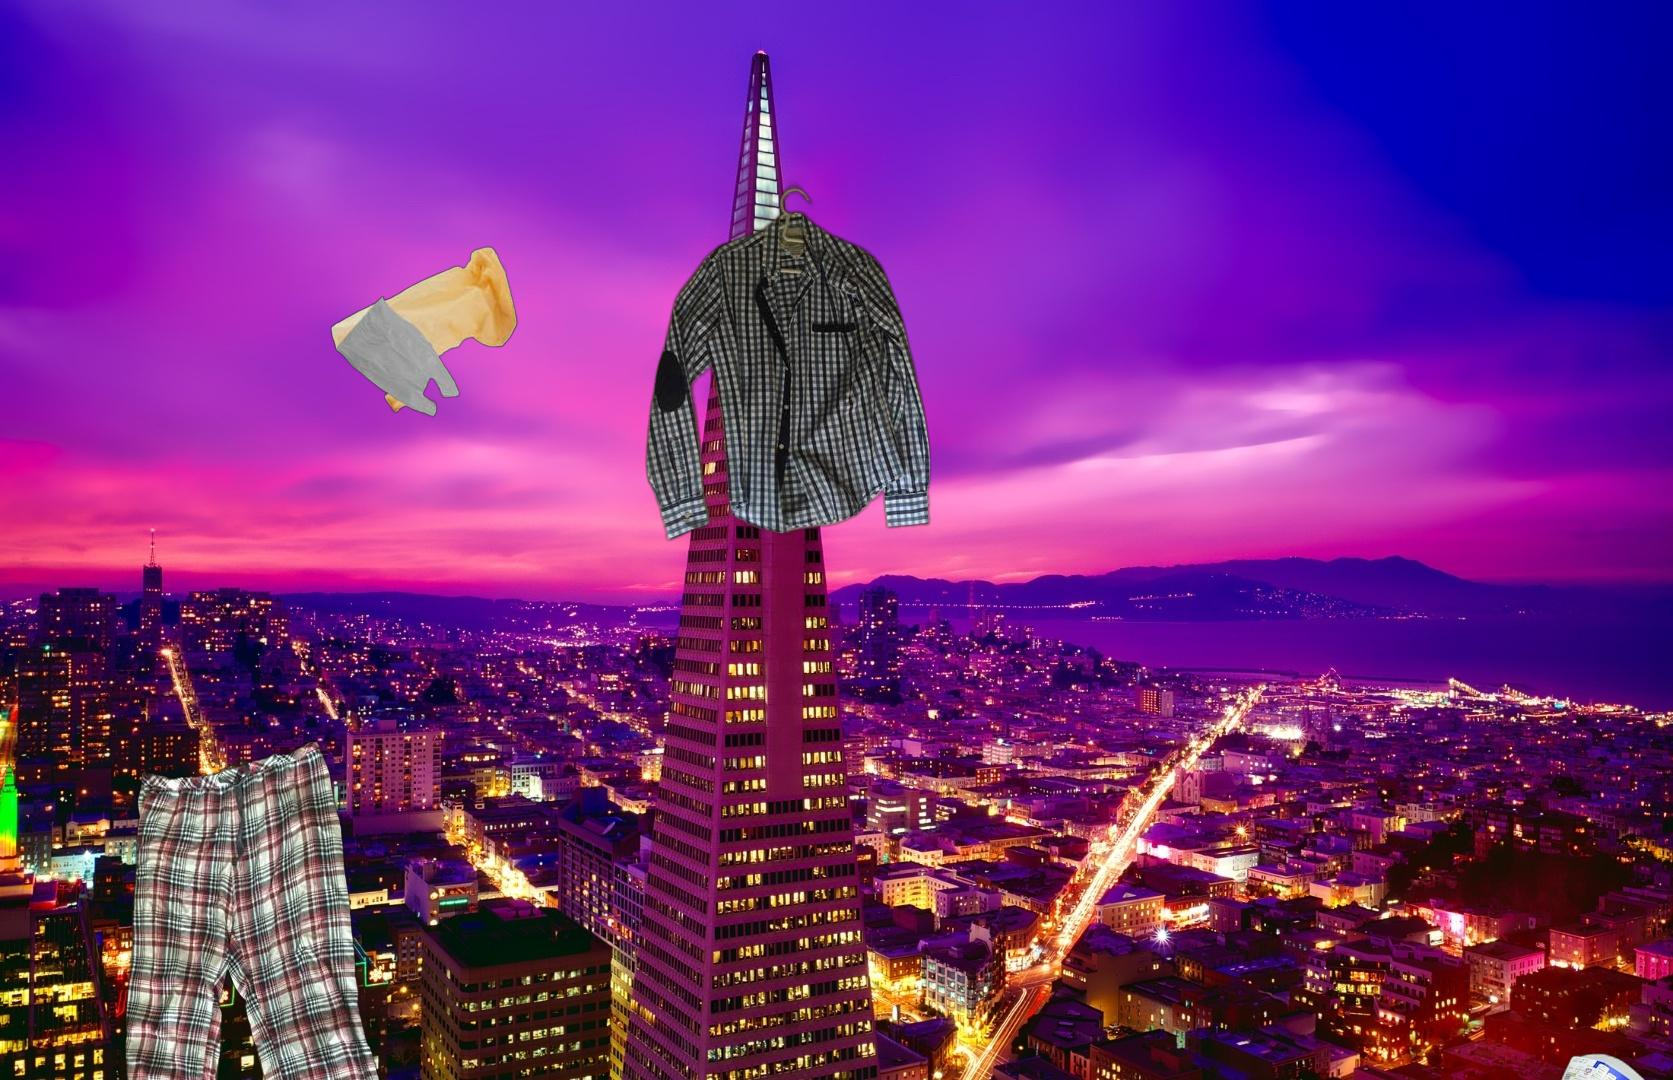clothes: (641, 178, 935, 545), (105, 742, 417, 1080)
plastic-bag: (330, 245, 519, 421)
plastic-bottles: (1528, 1047, 1668, 1080)
trashbox-cardboard: (98, 684, 718, 1080)
